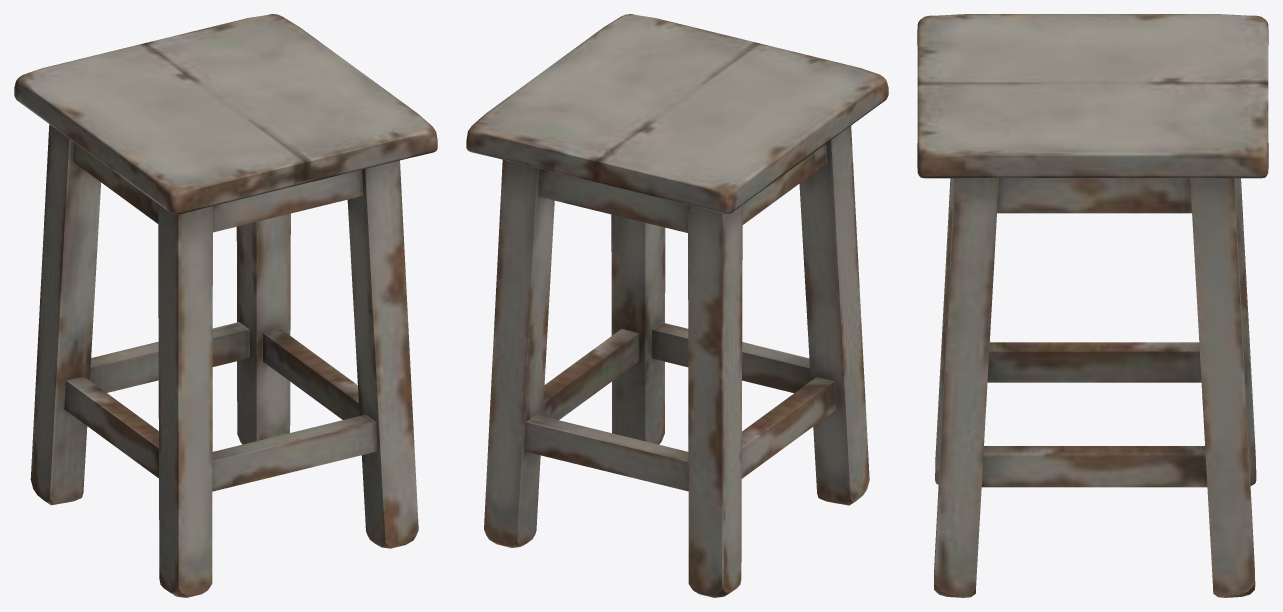
Rendered from stool-painted.lite.4e144892.glb.
3 renders of one model, left to right at view 1: azimuth 30°, elevation 25°; view 2: azimuth 150°, elevation 25°; view 3: azimuth 270°, elevation 25°, orthographic. The views are drawn at different scales.
Visible parts, largest first — view 1: model; view 2: model; view 3: model.
Part boxes in pixels (left/top/right/bottom): model: left=14, top=14, right=437, bottom=597; model: left=466, top=14, right=888, bottom=597; model: left=917, top=14, right=1268, bottom=597.
Size of the model in its own units: 0.3848 by 0.5789 by 0.4061.
Materials: 1 (1 with a texture image).
